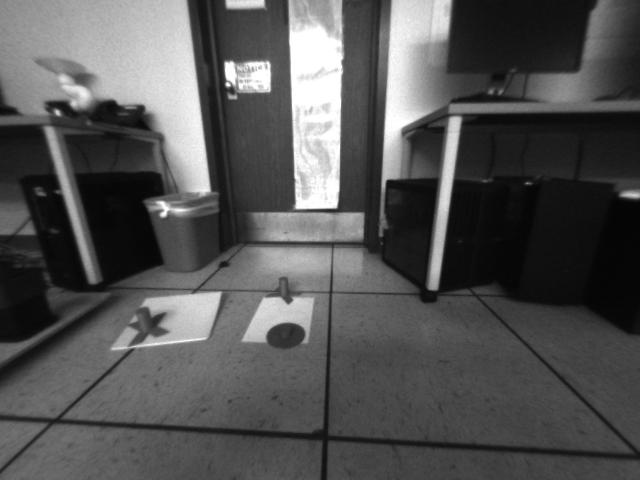X: (123, 306, 170, 346), (267, 275, 301, 304)
